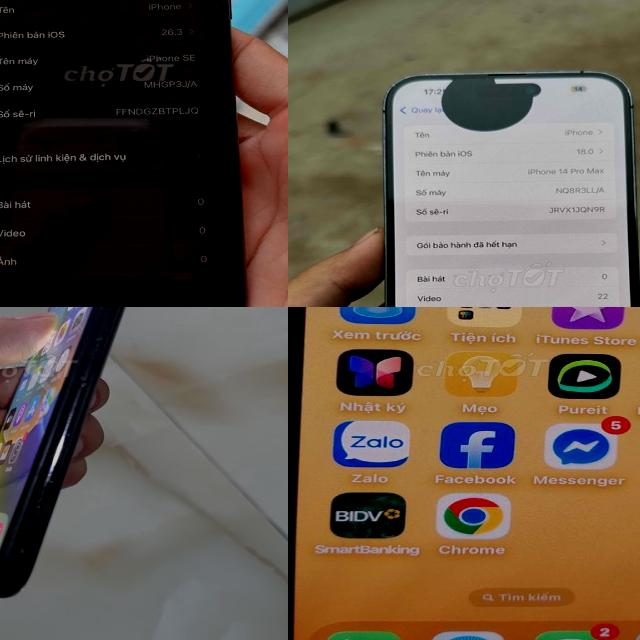gen_12_13: (288, 307, 640, 640)
gen_14: (368, 58, 640, 307)
gen_7_8: (0, 0, 256, 307)
gen_x_xs: (0, 307, 125, 596)
scratch: (6, 513, 53, 571), (26, 466, 66, 512), (85, 325, 116, 363), (71, 370, 107, 400)
screen_defect: (436, 62, 544, 140)
